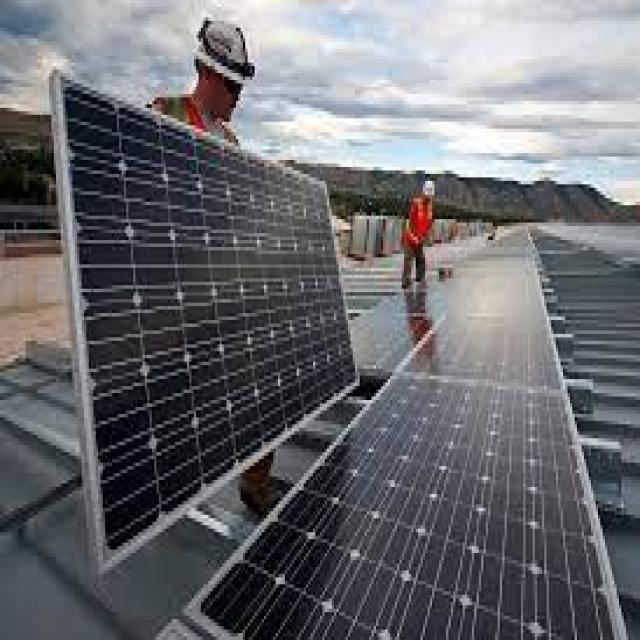no faulty: (58, 93, 357, 553), (204, 370, 612, 640)
